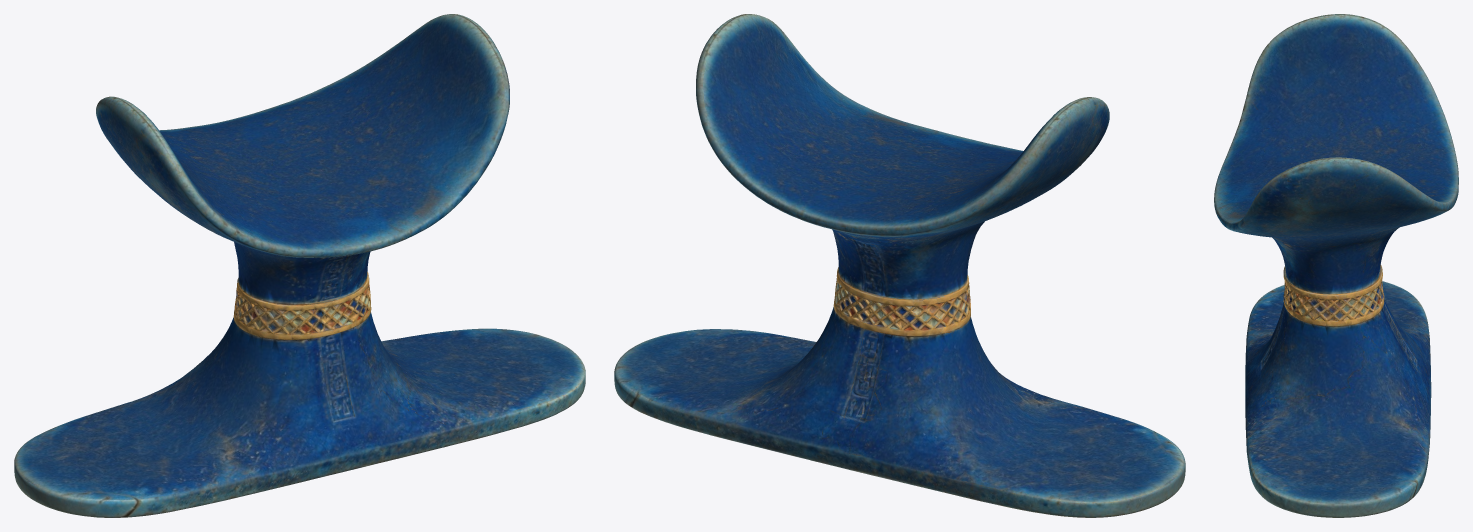
The model's file is headrest-azure.glb.
3 views of the same model, side by side, from view 1: azimuth 30°, elevation 25°; view 2: azimuth 150°, elevation 25°; view 3: azimuth 270°, elevation 25° (orthographic). The views are drawn at different scales.
Bounding box in the file's own units: 1.9 × 1.23 × 0.8585.
Materials: 1 (1 with a texture image).
